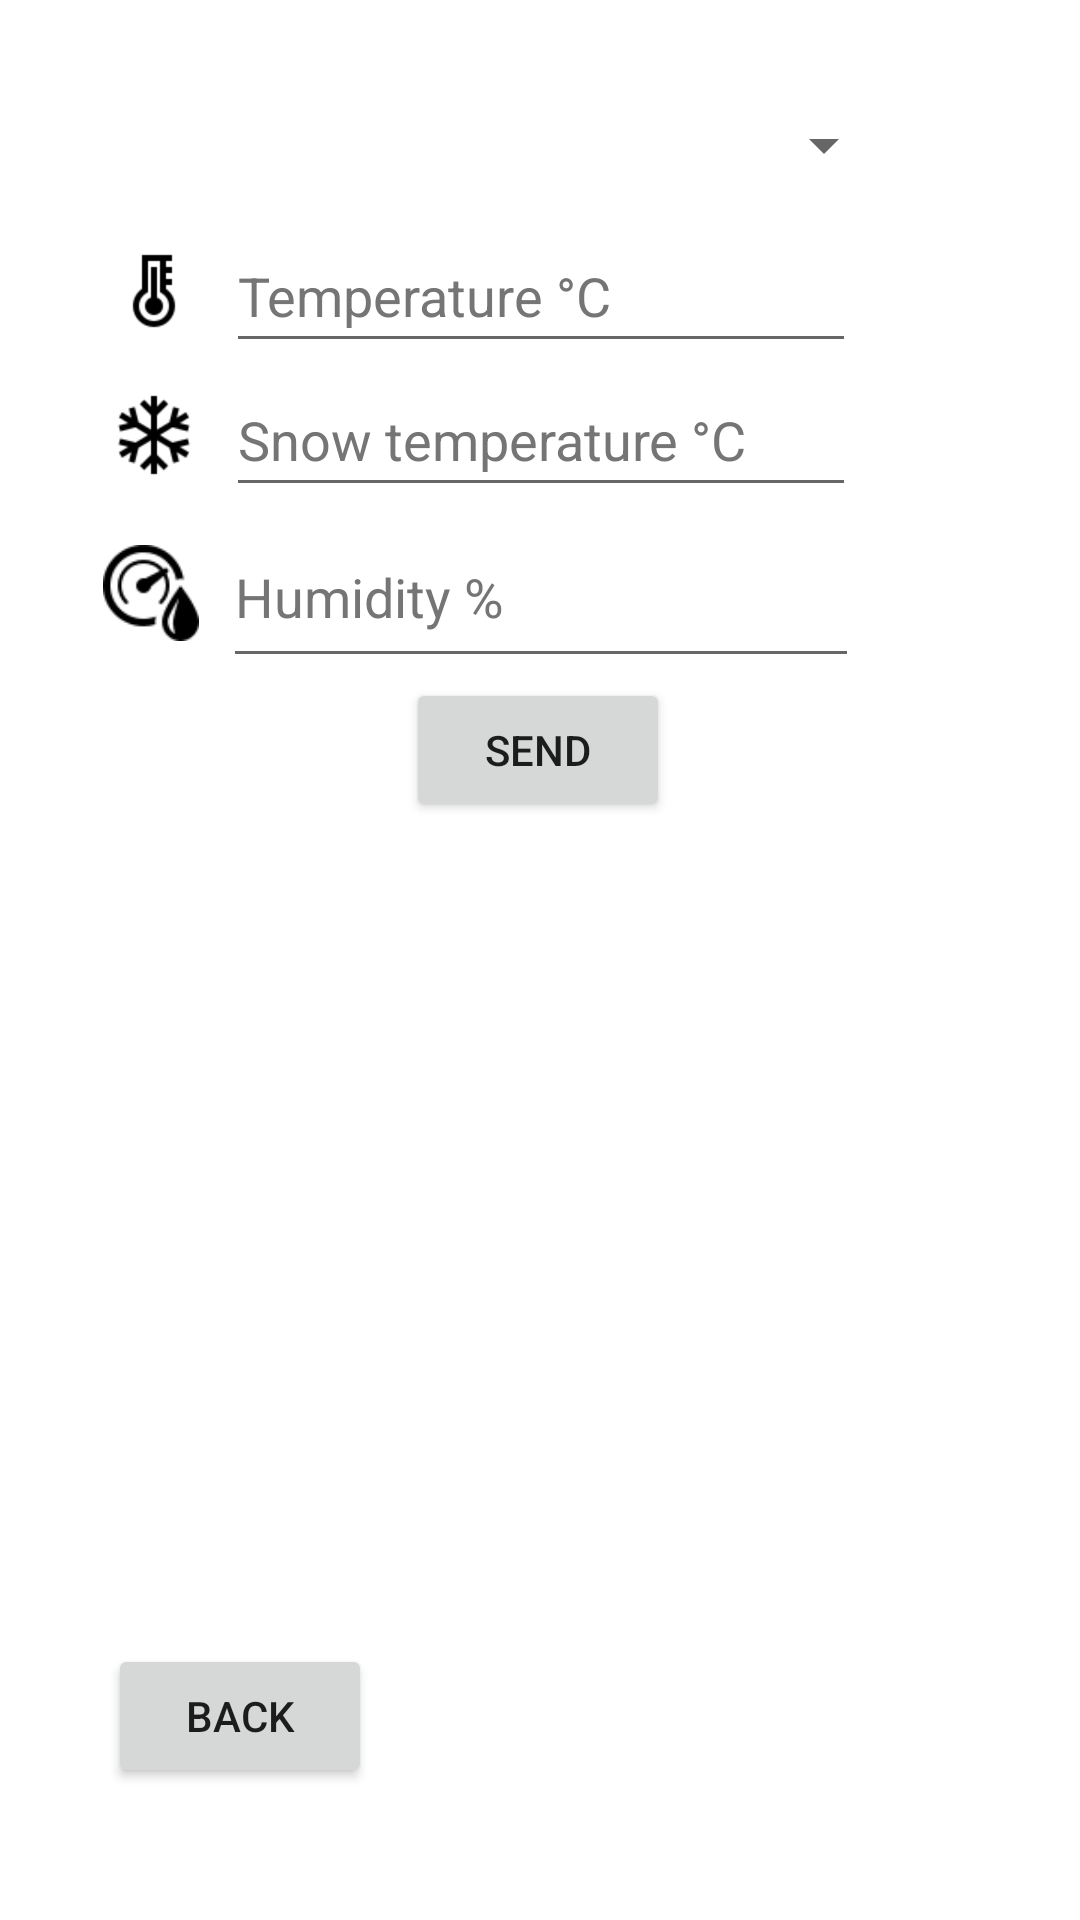

Locate icon controls on the screen. Image size 1080 x 1920, boxes as (left=x1, top=y1, right=x2, bottom=y2).
snowflake: (left=118, top=395, right=190, bottom=475)
